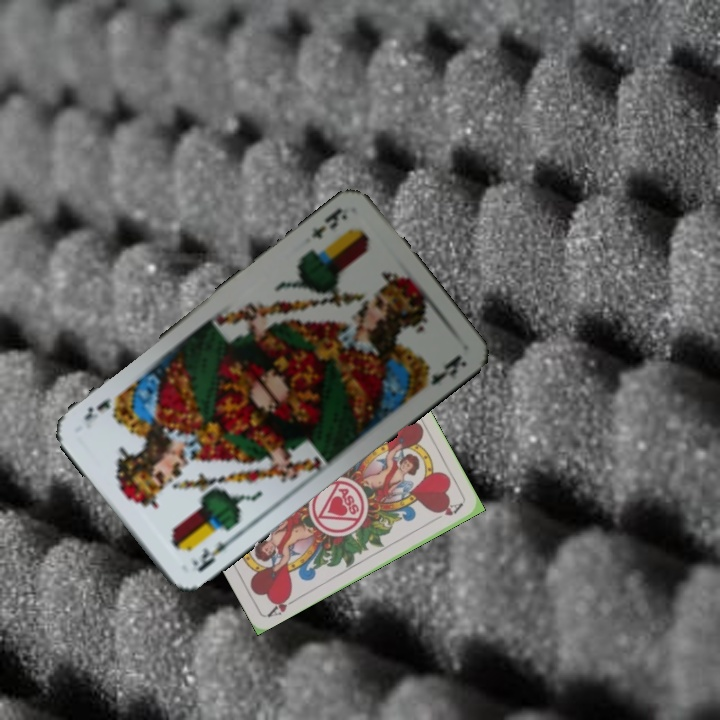EK: (187, 532, 238, 575), (307, 204, 351, 242)
HA: (263, 590, 301, 620)
